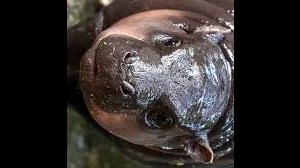Non_Gorille: (67, 0, 234, 168)
